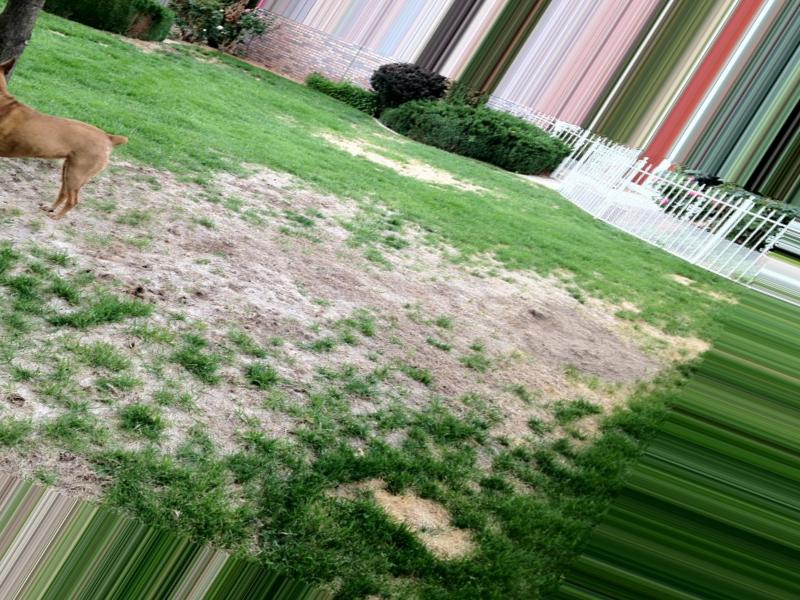patch: (67, 319, 363, 413), (160, 219, 457, 303), (376, 323, 629, 406), (319, 140, 487, 191), (466, 261, 606, 315), (38, 237, 138, 284)
